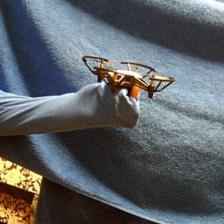drone: (80, 52, 174, 104)
